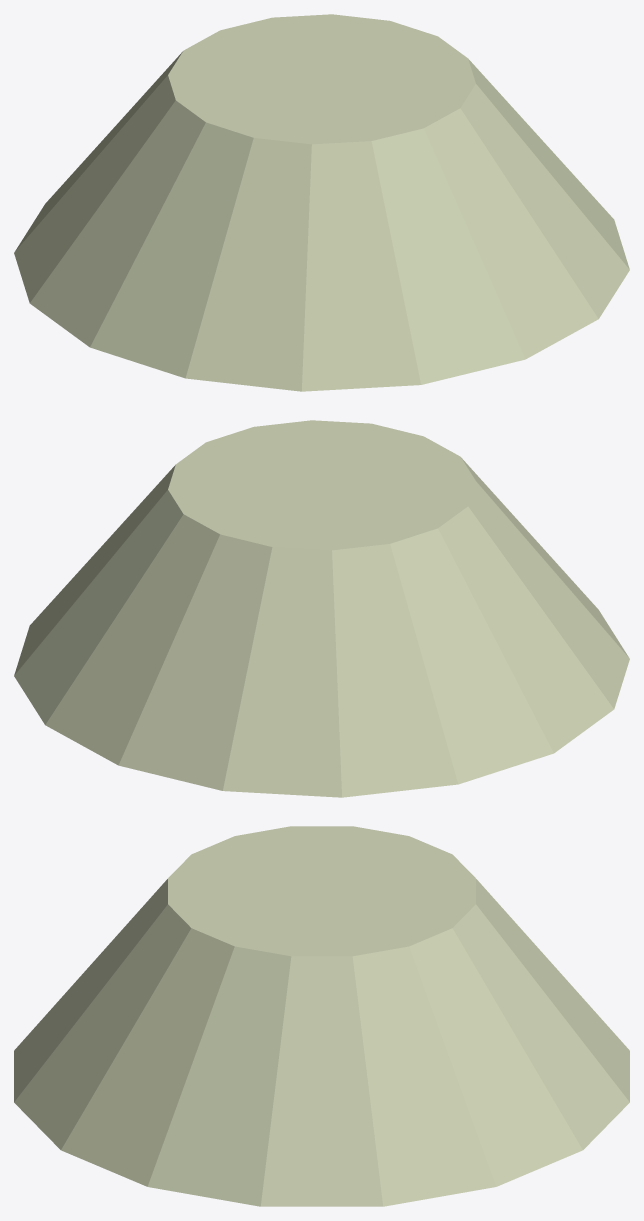
The model's file is Eridani_NodeSupport_1_Collider.obj.
3 renders of one model, top to bottom at view 1: azimuth 30°, elevation 25°; view 2: azimuth 150°, elevation 25°; view 3: azimuth 270°, elevation 25°, orthographic.
Parts seen in each view (by area): view 1: Eridani_NodeSupport_1_Collider; view 2: Eridani_NodeSupport_1_Collider; view 3: Eridani_NodeSupport_1_Collider.
Part boxes in pixels (x1,y1,x2,y2): Eridani_NodeSupport_1_Collider: (14, 14, 629, 391); Eridani_NodeSupport_1_Collider: (14, 420, 629, 797); Eridani_NodeSupport_1_Collider: (14, 826, 629, 1206).
Bounding box in the file's own units: 1.88 × 0.6225 × 1.88.
